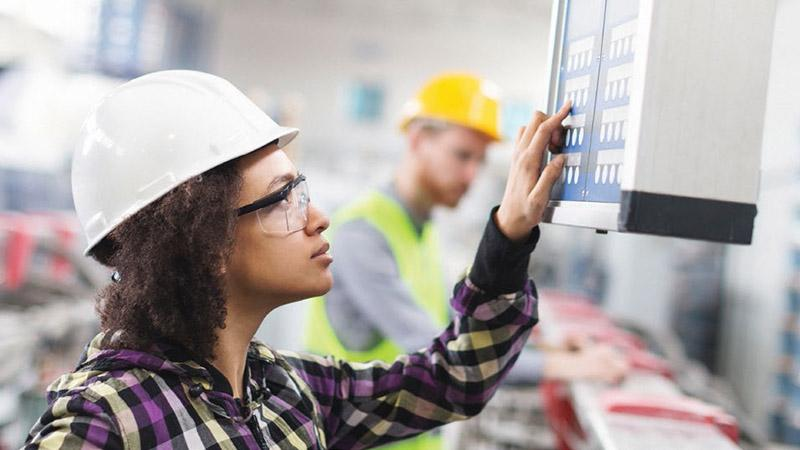helmet: (72, 69, 296, 253), (398, 70, 506, 144)
